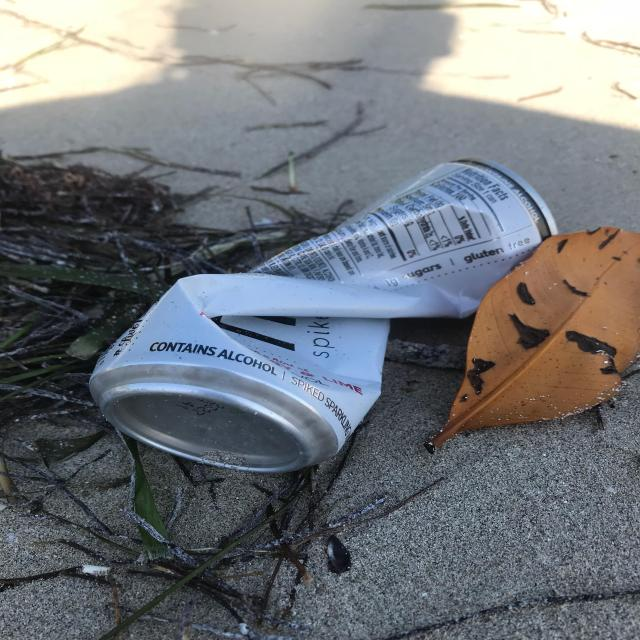litter: (209, 60, 631, 413)
